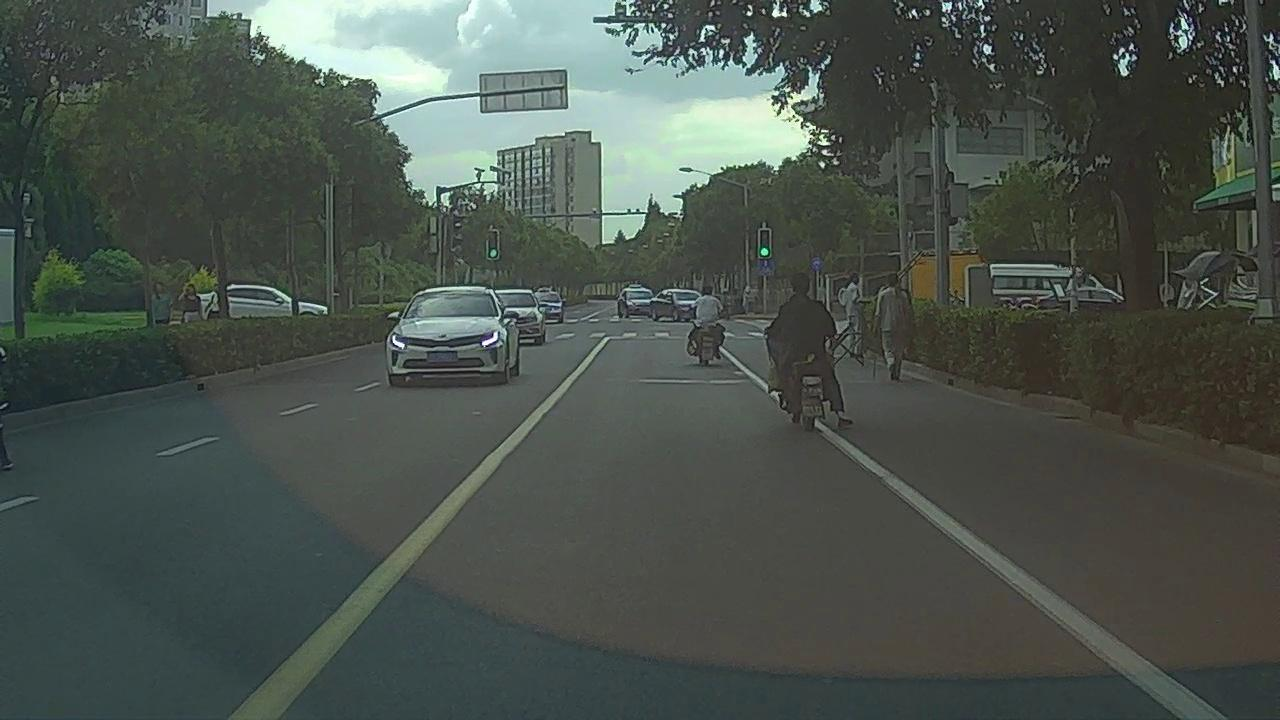traffic_light: (759, 230, 772, 257), (487, 231, 499, 259)
